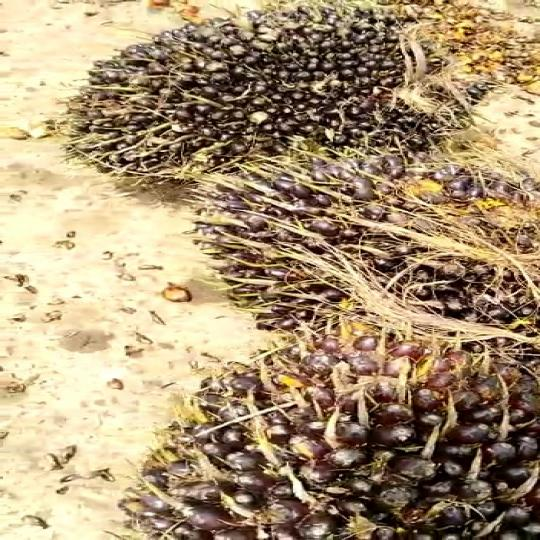mentah: (91, 315, 540, 538), (58, 3, 534, 195), (191, 132, 540, 380)
